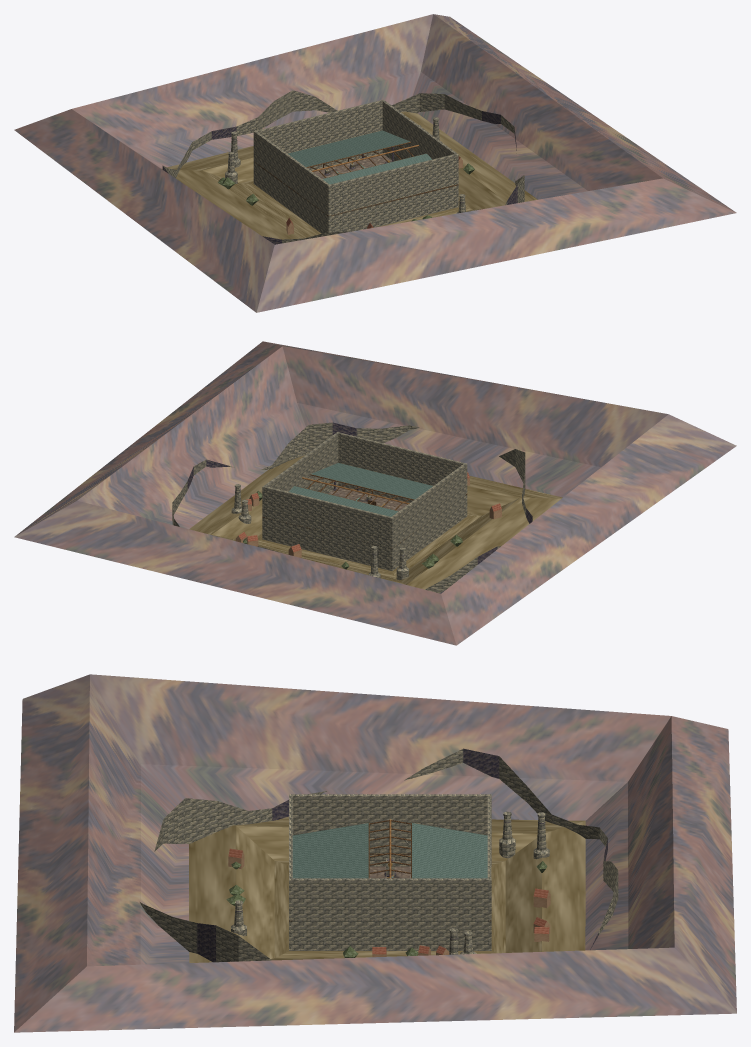
The model's file is GloamingPress.fbx.
3 views of the same model, one above another, from view 1: azimuth 30°, elevation 25°; view 2: azimuth 150°, elevation 25°; view 3: azimuth 270°, elevation 25° (orthographic). The views are drawn at different scales.
Visible parts, largest first — view 1: Surroundings, C_Solids, Skyline, Rim, Terrain; view 2: Surroundings, C_Solids, Skyline, Rim, Terrain; view 3: Surroundings, C_Solids, Skyline, Rim.
Boxes of the visible parts, x1,y1,x2,y2 form: Surroundings: (14, 14, 736, 312); C_Solids: (253, 99, 458, 233); Skyline: (162, 90, 524, 244); Rim: (254, 130, 458, 232); Terrain: (313, 155, 391, 178); Surroundings: (14, 341, 736, 645); C_Solids: (262, 432, 467, 570); Skyline: (172, 422, 532, 593); Rim: (262, 463, 467, 570); Terrain: (328, 487, 407, 510); Surroundings: (14, 674, 736, 1032); C_Solids: (289, 794, 491, 950); Skyline: (140, 748, 618, 962); Rim: (289, 819, 491, 950).
Bounding box in the file's own units: 15242 × 2612 × 14810.
